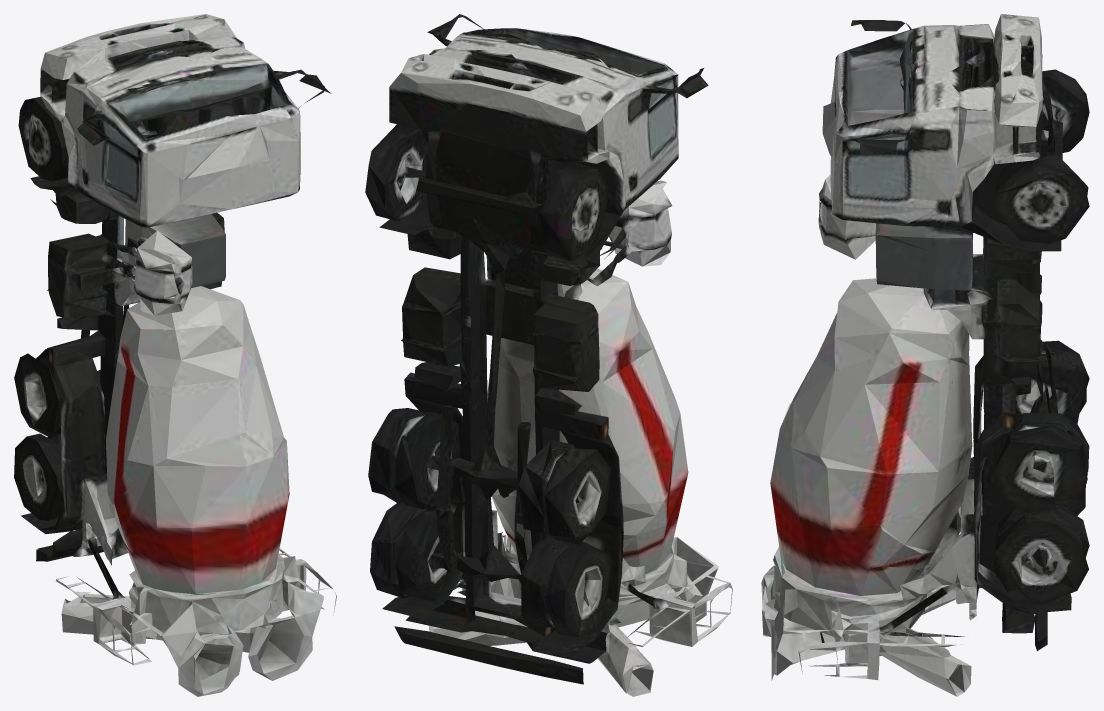
The model's file is caminhao_betoneira.glb.
The picture shows the model from 3 angles, left to right: view 1: azimuth 30°, elevation 25°; view 2: azimuth 150°, elevation 25°; view 3: azimuth 270°, elevation 25°; orthographic projection. The views are drawn at different scales.
Visible parts, largest first — view 1: n0; view 2: n0; view 3: n0.
Part boxes in pixels (bbox=[...]): n0: bbox=[14, 14, 336, 696]; n0: bbox=[365, 14, 732, 696]; n0: bbox=[761, 14, 1089, 696].
Size of the model in its own units: 3.85 by 8.8 by 4.29.
Materials: 1 (1 with a texture image).
